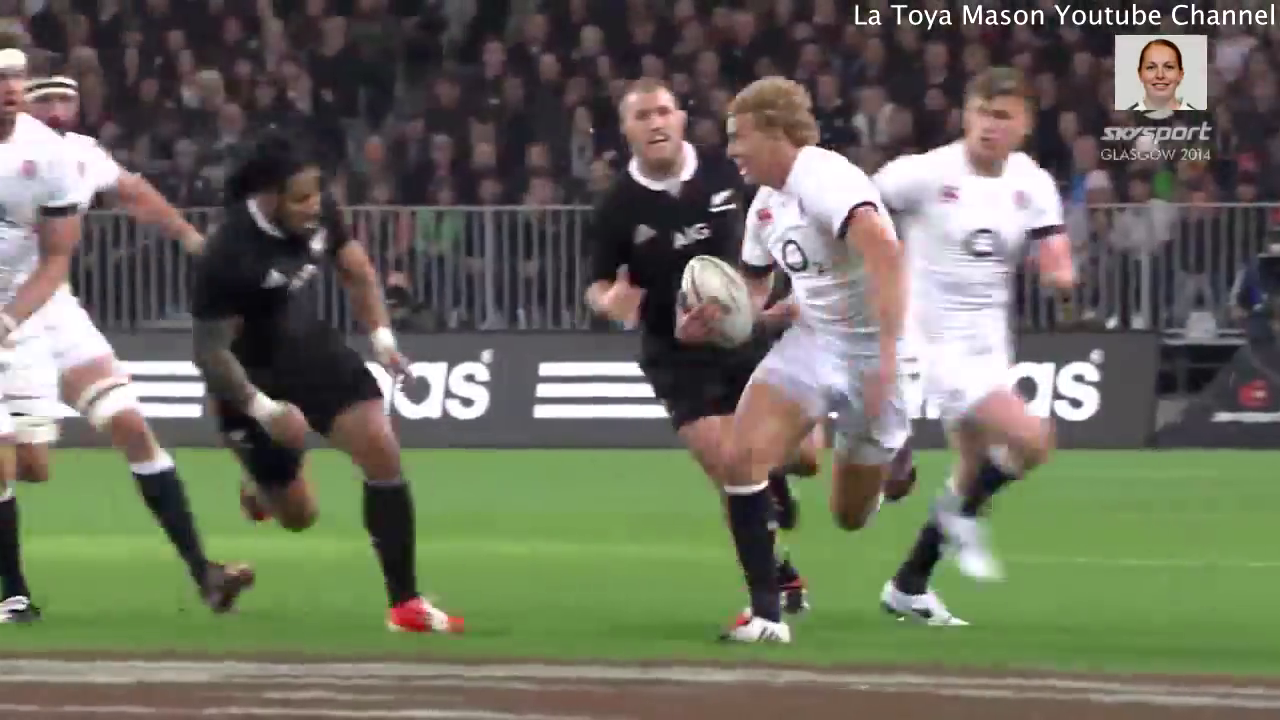ball: (669, 237, 753, 376)
player: (1, 37, 260, 650), (185, 128, 483, 656), (657, 58, 919, 656), (859, 55, 1085, 677), (580, 78, 817, 647), (1, 26, 89, 628)
